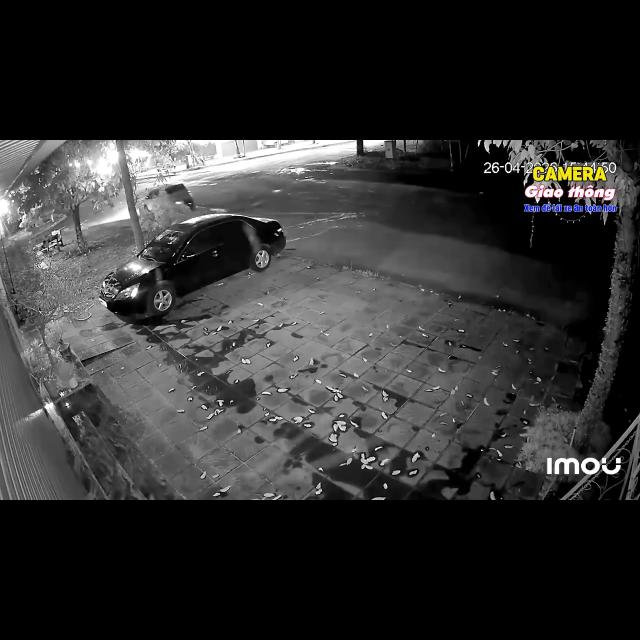car: (98, 213, 286, 318), (146, 184, 194, 209), (262, 140, 277, 147)
